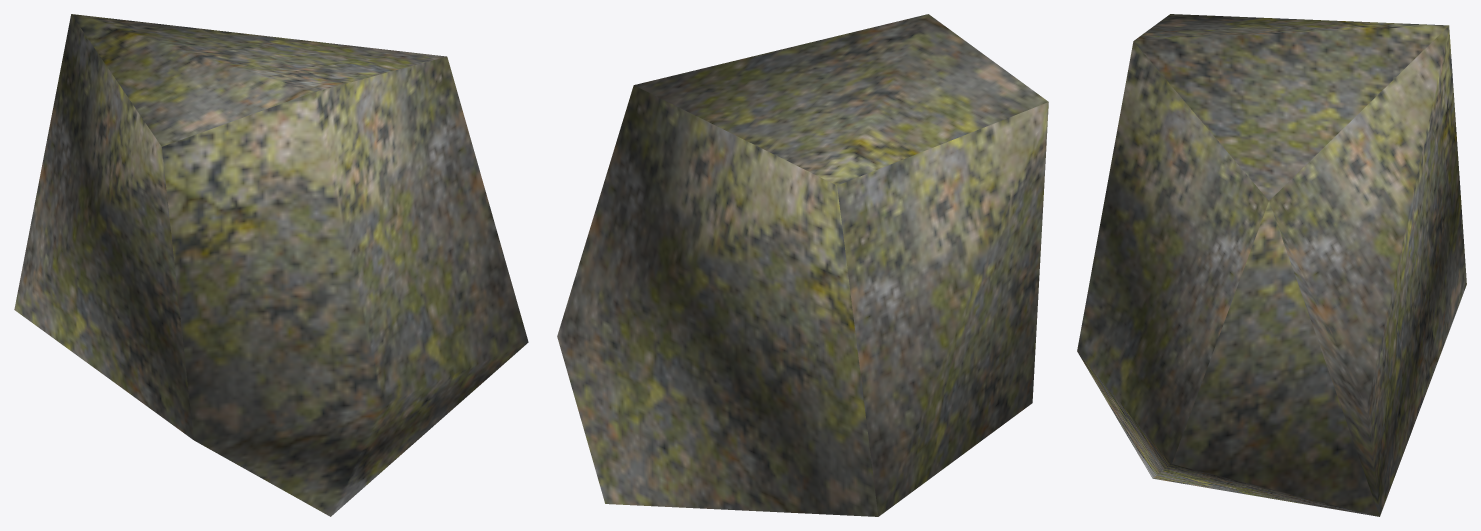
File: Type2_Rock_medium_2.fbx
3 renders of one model, left to right at view 1: azimuth 30°, elevation 25°; view 2: azimuth 150°, elevation 25°; view 3: azimuth 270°, elevation 25°, orthographic. The views are drawn at different scales.
Visible parts, largest first — view 1: Type2_Rock_medium_2; view 2: Type2_Rock_medium_2; view 3: Type2_Rock_medium_2.
Boxes of the visible parts, left/top/right/bottom form: Type2_Rock_medium_2: left=14, top=14, right=528, bottom=516; Type2_Rock_medium_2: left=557, top=14, right=1048, bottom=516; Type2_Rock_medium_2: left=1077, top=14, right=1466, bottom=516.
Bounding box in the file's own units: 1.45 × 1.66 × 1.38.
